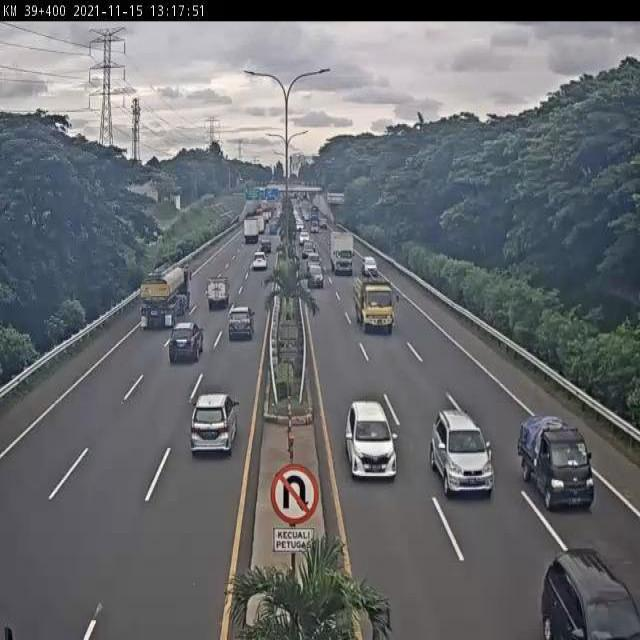car: (518, 404, 593, 519), (343, 400, 402, 483), (204, 273, 230, 311), (228, 307, 254, 340), (250, 249, 269, 271)
truck-m-: (357, 274, 396, 334), (331, 234, 354, 274)
truck-xl-: (135, 260, 194, 336)
